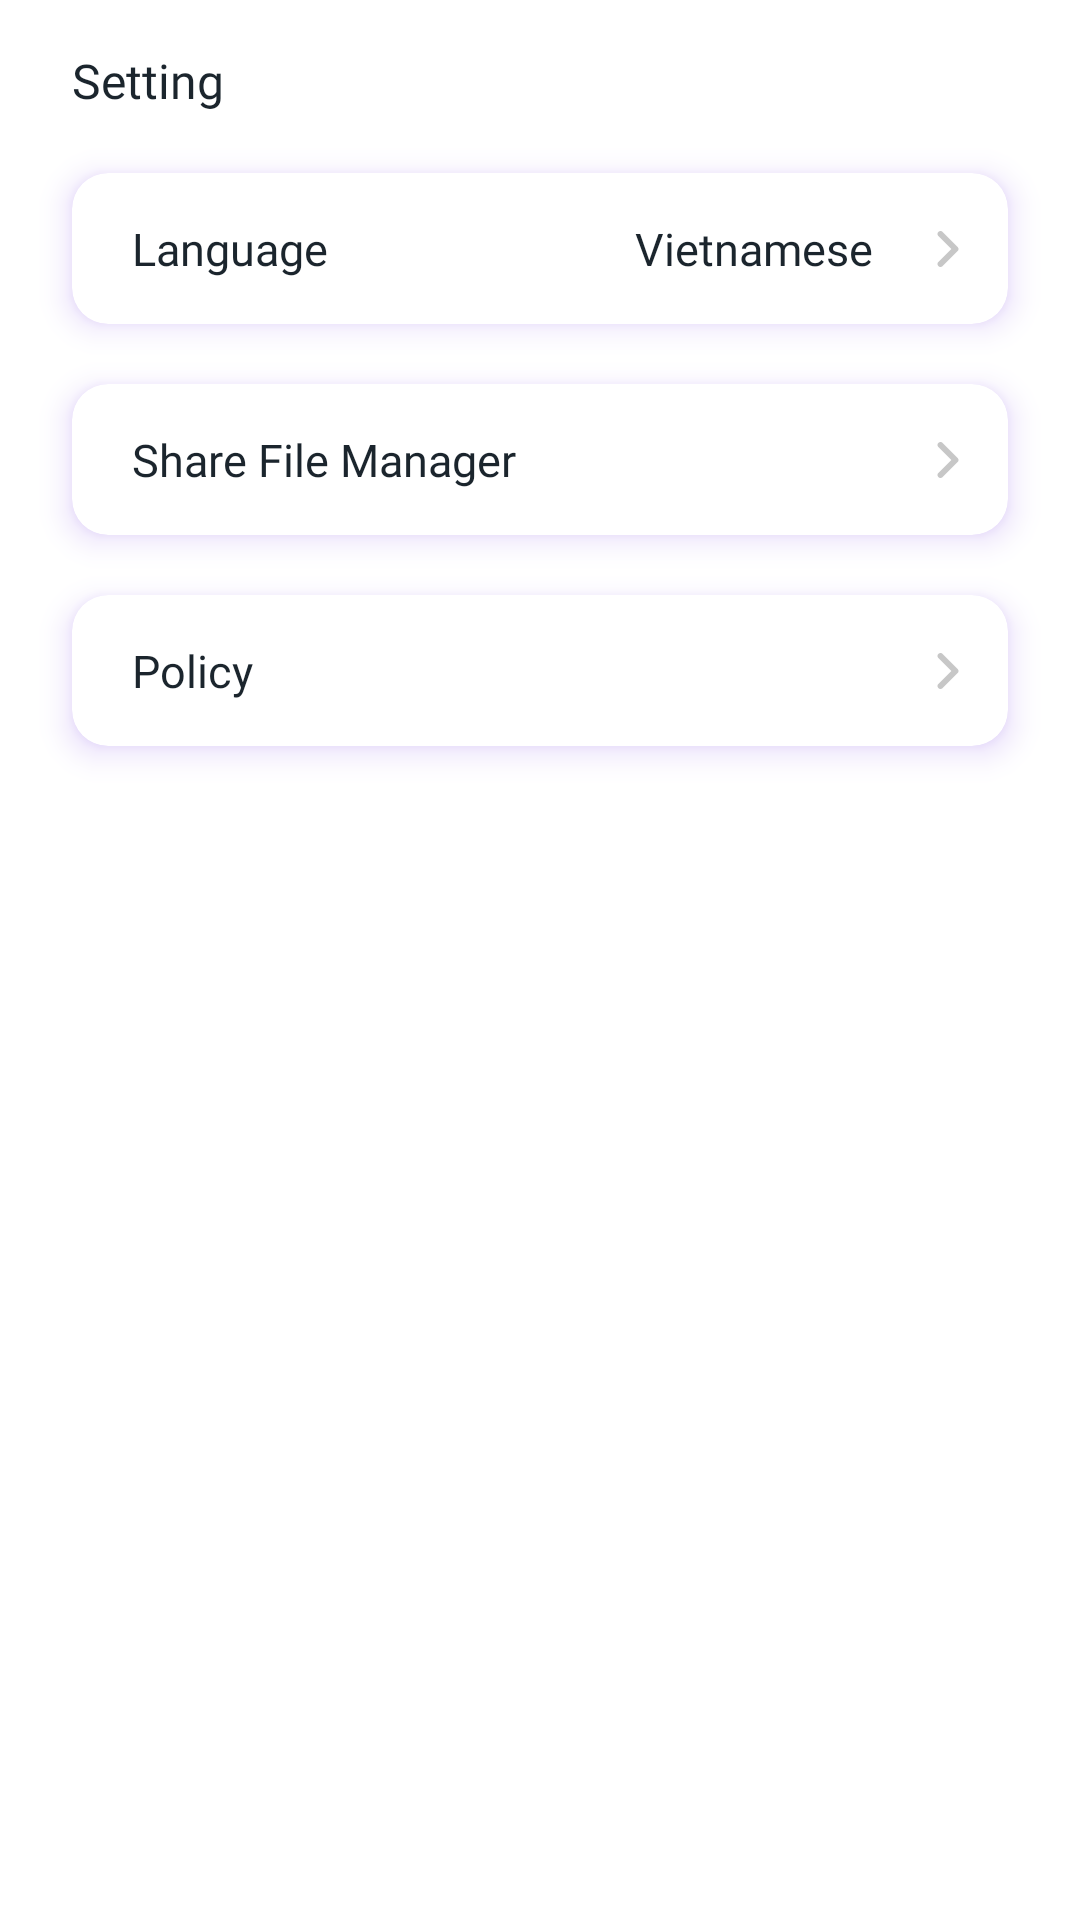

Screen size 1080*1920. Icon name, then its box in pixels as rect(x1, y1, x2, y2):
chevron right: rect(937, 231, 959, 267), rect(937, 442, 959, 478), rect(937, 653, 959, 689)
